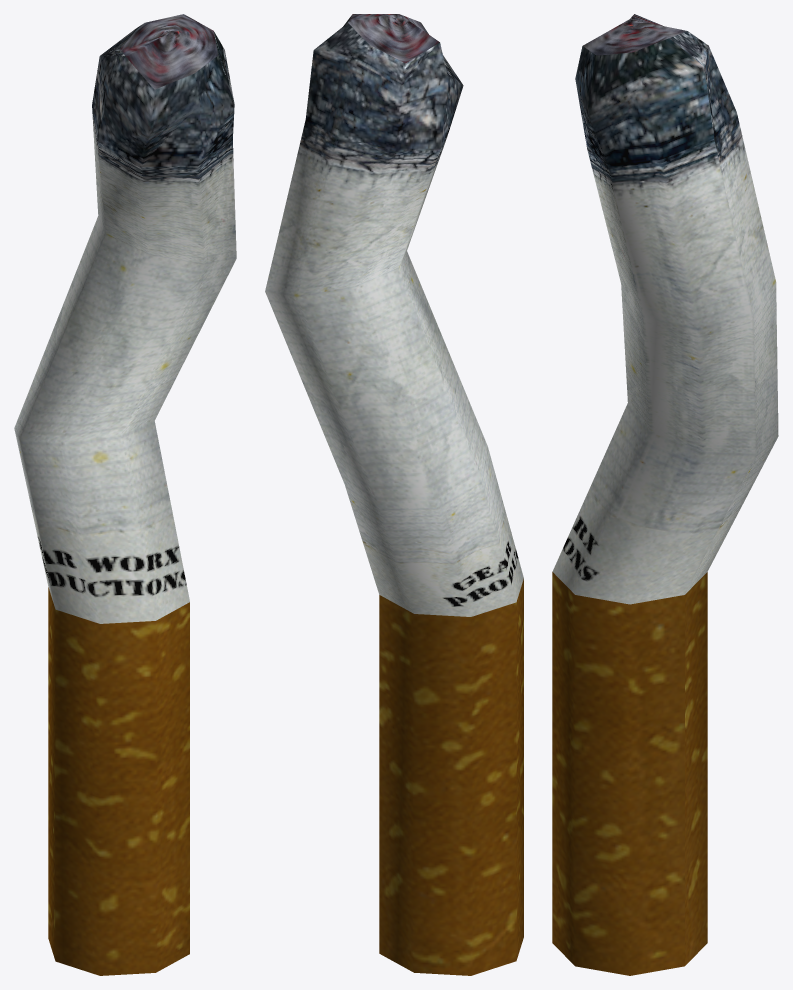
The model's file is cig_bent_01.fbx.
3 views of the same model, side by side, from view 1: azimuth 30°, elevation 25°; view 2: azimuth 150°, elevation 25°; view 3: azimuth 270°, elevation 25° (orthographic). The views are drawn at different scales.
Visible parts, largest first — view 1: Cig; view 2: Cig; view 3: Cig.
Part boxes in pixels (x1,y1,x2,y2): Cig: (14,14,236,975); Cig: (265,14,523,975); Cig: (552,14,778,975).
Bounding box in the file's own units: 0.0197 × 0.0822 × 0.0177.
